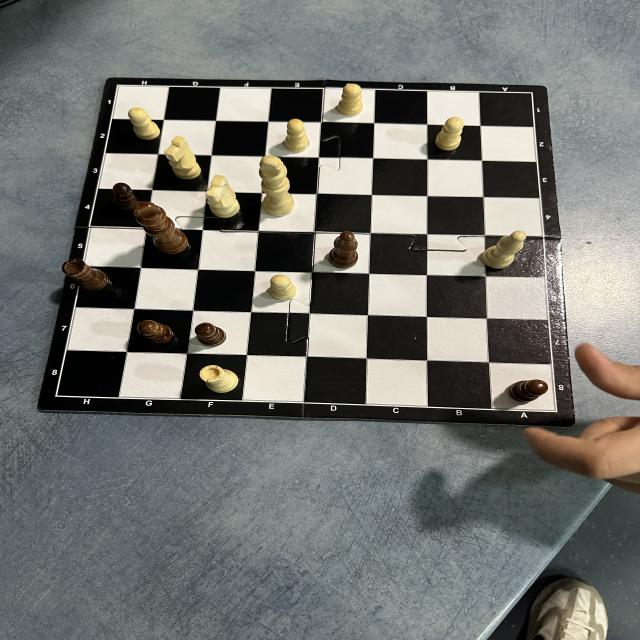Black-Bishop: (328, 230, 359, 270)
Black-King: (132, 200, 190, 255)
Black-Pawn: (136, 318, 173, 344), (511, 379, 549, 402), (195, 323, 228, 347), (111, 182, 138, 210)
Black-Rook: (61, 258, 109, 291)
White-Bishop: (481, 230, 528, 269)
White-King: (258, 156, 296, 217)
White-Knight: (164, 136, 202, 180), (204, 175, 240, 218)
White-Pawn: (128, 107, 162, 141), (436, 116, 466, 152), (336, 83, 364, 117), (285, 118, 310, 153), (269, 274, 297, 301)
White-Rook: (198, 364, 240, 394)
